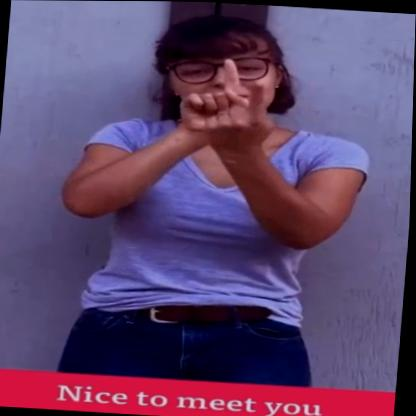NiceToMeetYou: (64, 1, 382, 389)
